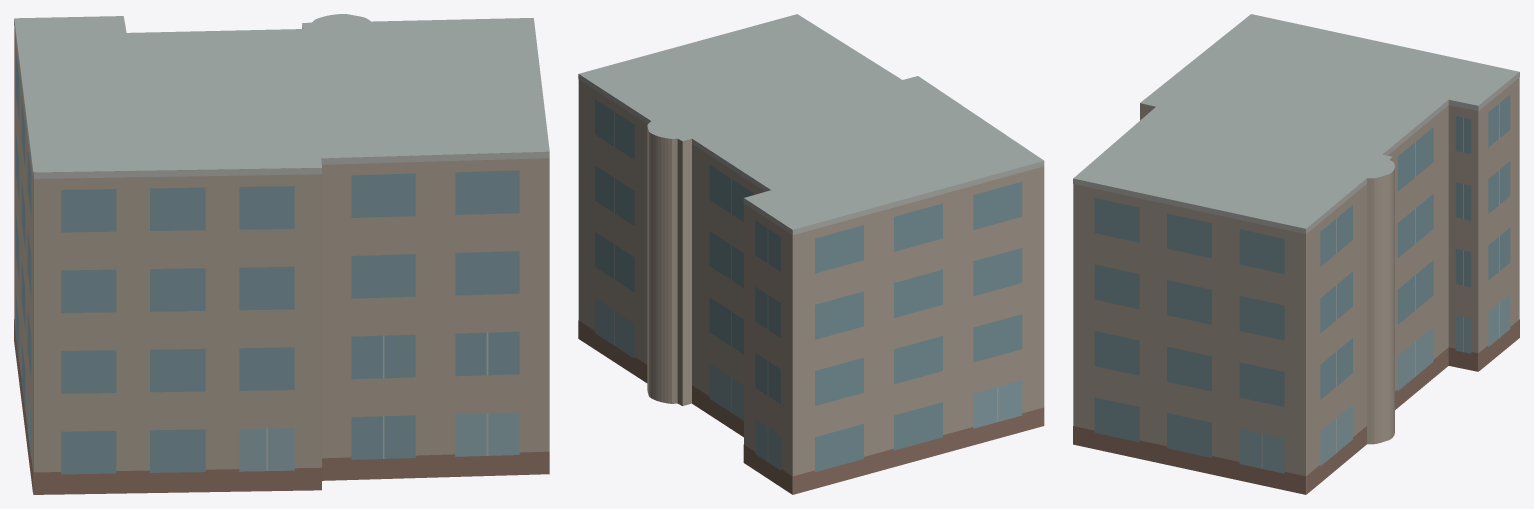
Rendered from survey-upis-32781286.glb.
3 views of the same model, side by side, from view 1: azimuth 30°, elevation 25°; view 2: azimuth 150°, elevation 25°; view 3: azimuth 270°, elevation 25° (orthographic). The views are drawn at different scales.
Visible parts, largest first — view 1: survey-upis-32781286.tmp; view 2: survey-upis-32781286.tmp; view 3: survey-upis-32781286.tmp.
Part boxes in pixels (left/top/right/bottom): survey-upis-32781286.tmp: left=14, top=14, right=549, bottom=494; survey-upis-32781286.tmp: left=578, top=14, right=1044, bottom=494; survey-upis-32781286.tmp: left=1073, top=14, right=1519, bottom=494.
Bounding box in the file's own units: 20.9 × 12.06 × 18.36.
